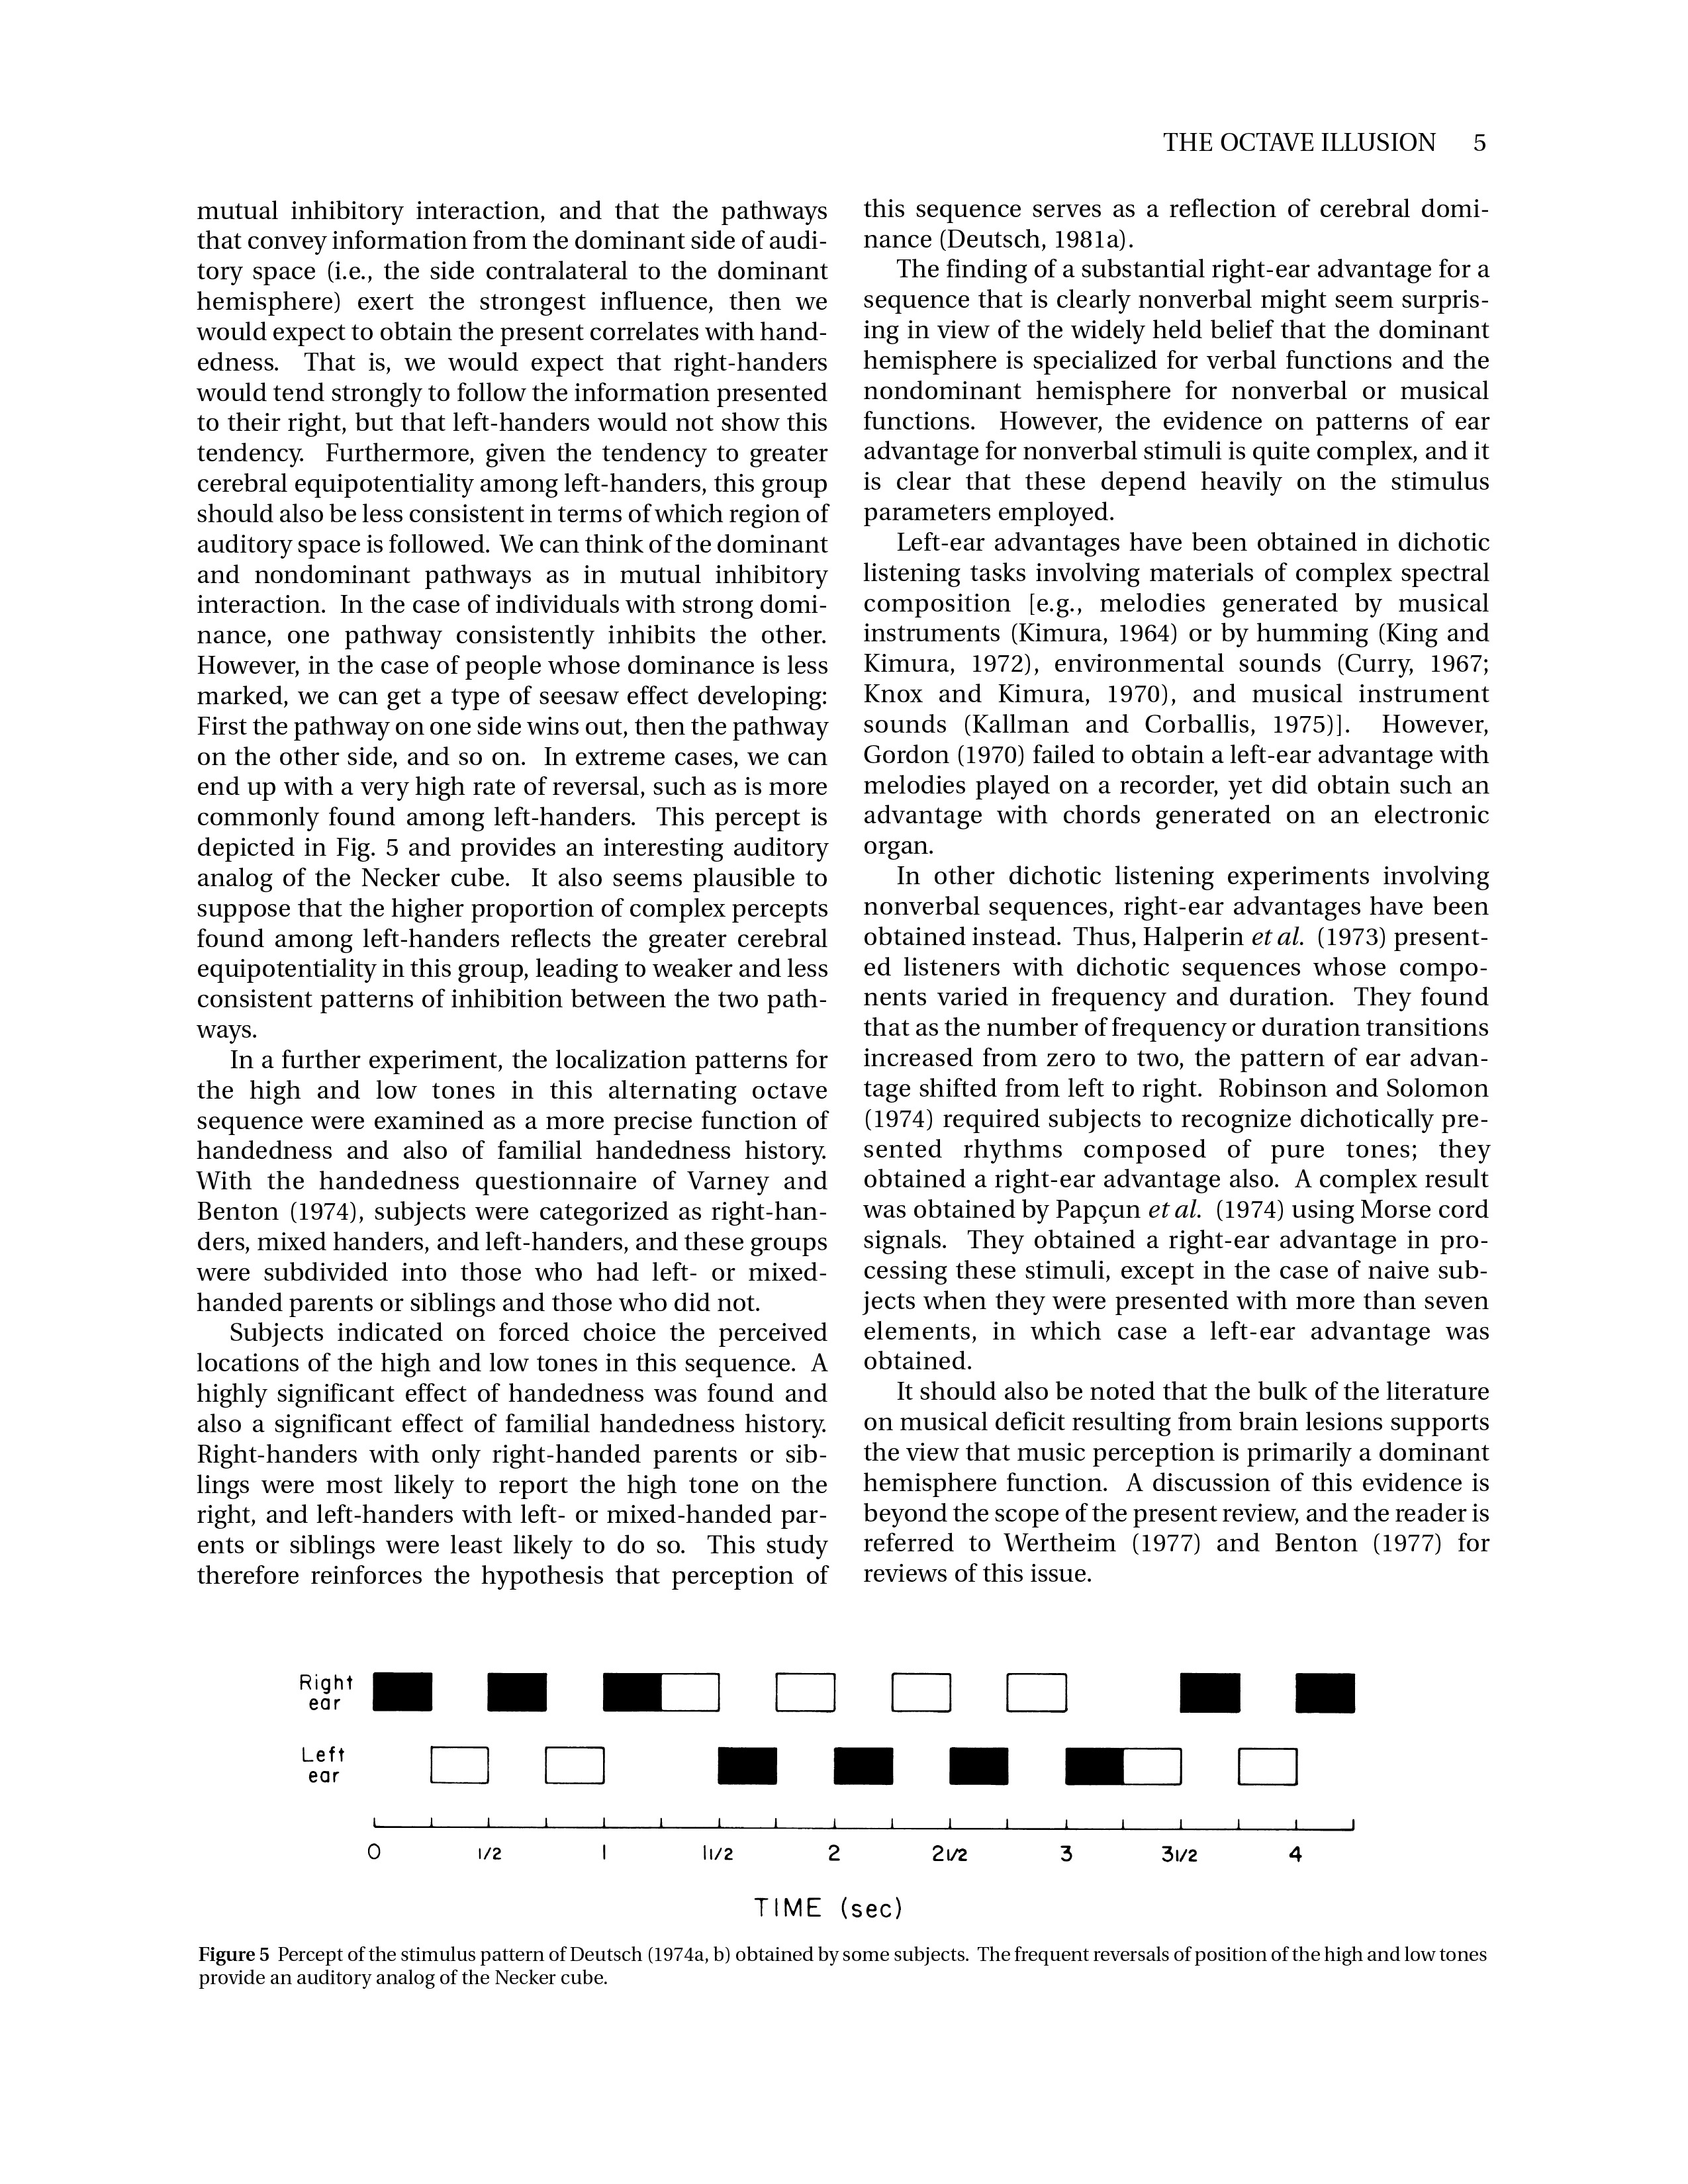caption: (183, 1945, 1502, 2010)
figure: (284, 1654, 1372, 1911)
text: (186, 190, 826, 1042), (865, 860, 1502, 1385), (853, 539, 1495, 856), (190, 1319, 842, 1604), (853, 262, 1498, 534), (177, 1058, 833, 1319), (869, 1388, 1502, 1595), (849, 190, 1495, 239)
